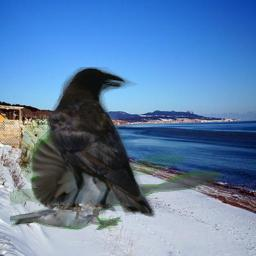Crow: (47, 67, 156, 221)
Swallow: (10, 118, 222, 230)
